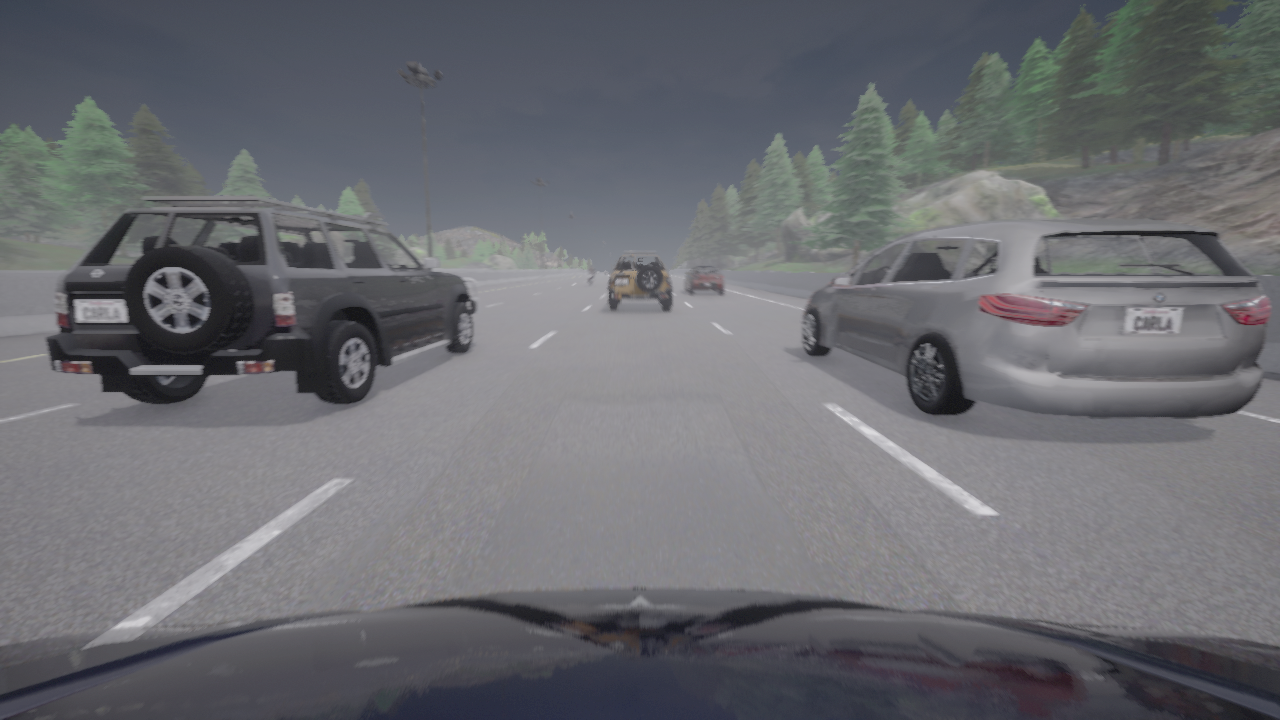cyclist: (0, 588, 1279, 719), (802, 218, 1270, 417), (45, 197, 479, 404), (608, 251, 671, 310), (685, 265, 723, 294), (587, 270, 594, 285)
